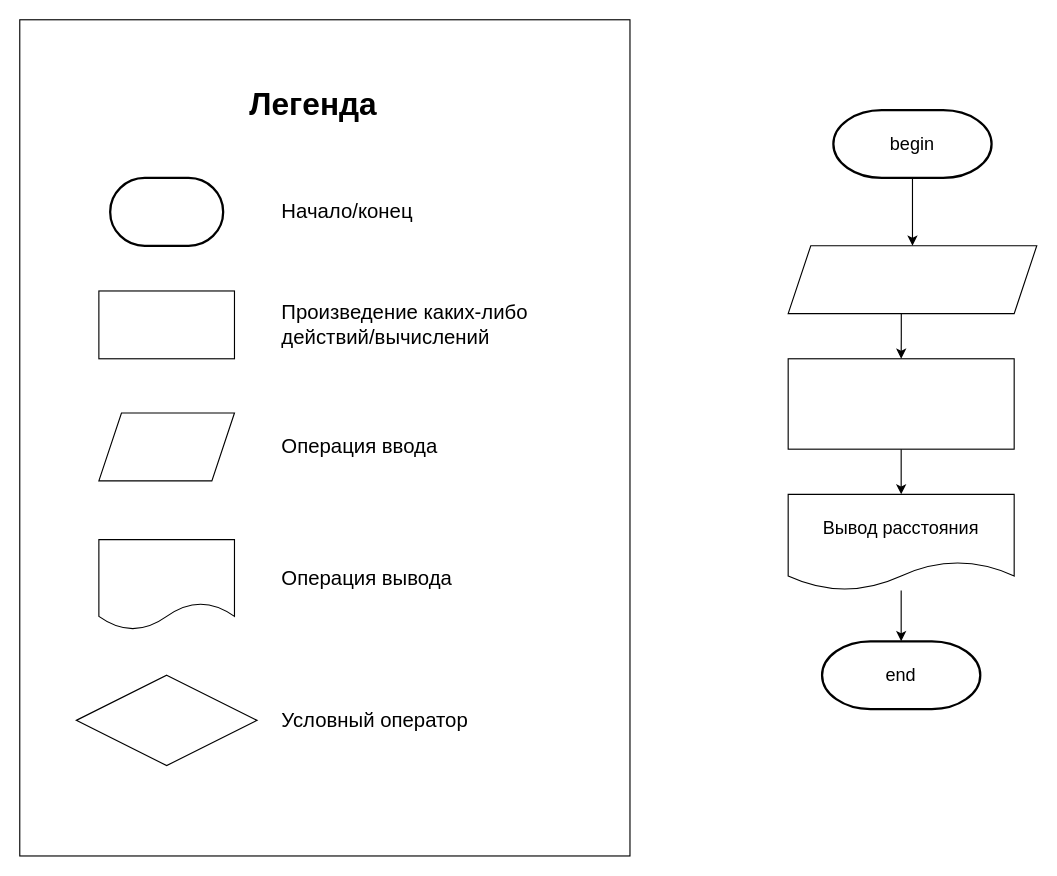
The diagram is 1057 pixels wide and 876 high, and some of its shapes have lost their labels. The box of each missing label's shape, as (x1, y1, x2, y2) in pixels:
sqrt((x2-x1)^2+(y2-y1)^2): (787, 358, 1014, 449)
x1,x2,y1,y2: (787, 245, 1037, 314)
